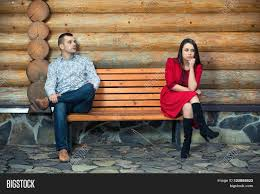Caution: (44, 32, 221, 164)
